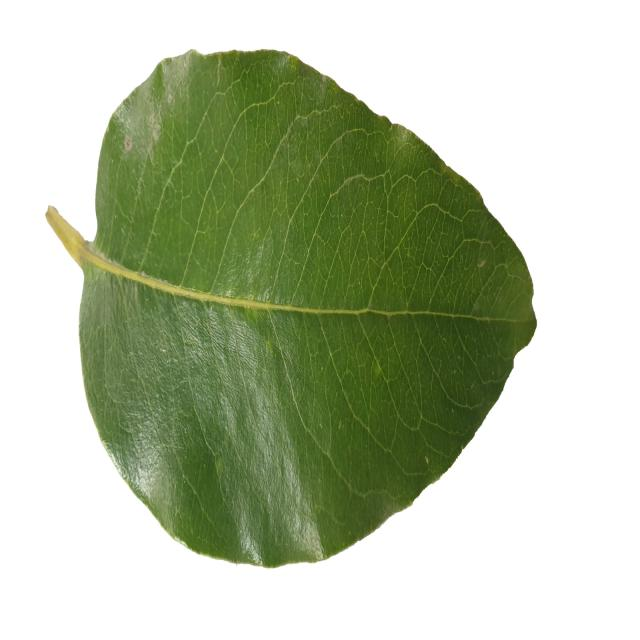Medicinal-Sandalwood: (47, 47, 537, 570)
